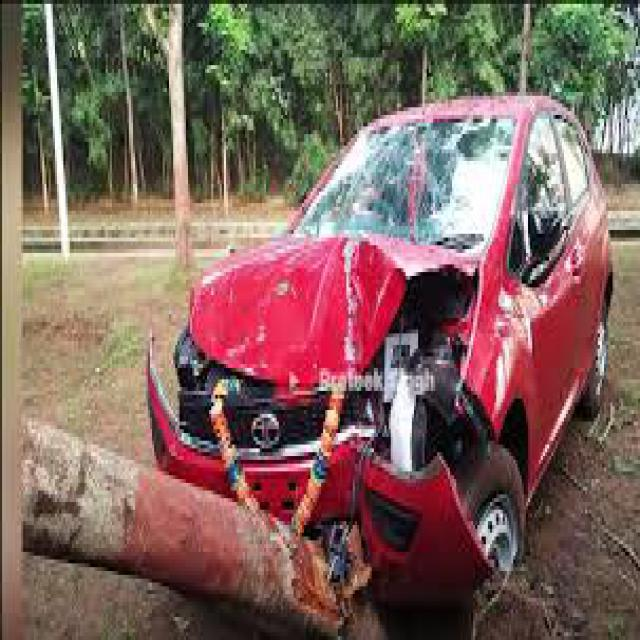Front-Windscreen-Damage: (353, 115, 510, 238)
bonnet-dent: (163, 234, 480, 429)
